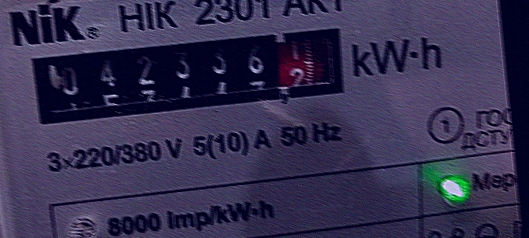0: (57, 64, 79, 98)
1: (286, 36, 300, 63)
2: (133, 52, 157, 88), (286, 66, 305, 89)
3: (169, 48, 190, 81), (208, 44, 228, 77)
4: (97, 56, 117, 89)
6: (243, 42, 266, 78)
screen: (17, 13, 360, 137)
